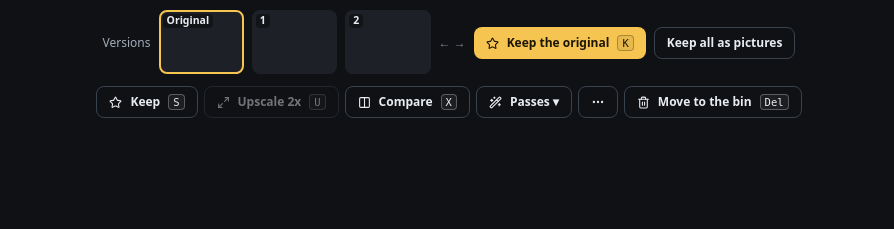
Scenario: the versions strip under a picture › puts two of them side by side in Compare on a Ctrl+click
Expected: the element "Versions" is shown, [99,10,799,76]
Click the button named "Version 1": (295,42) [252,10,337,74]
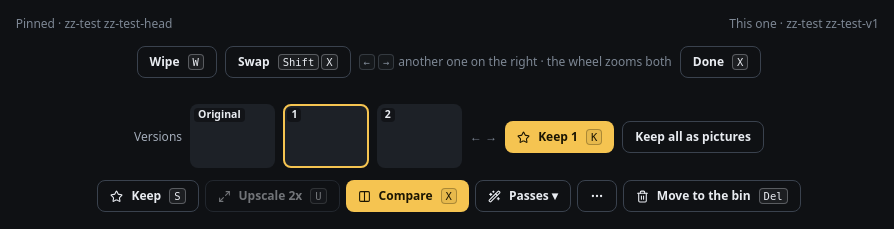
Now the button "Swap Shift X" is shown, box [225,46,351,78]
Press Escape
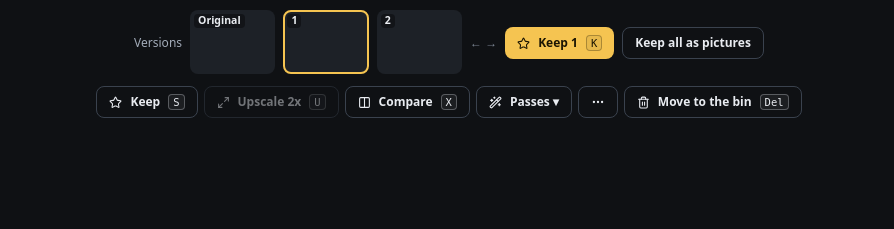
Now the button "Swap" is gone
